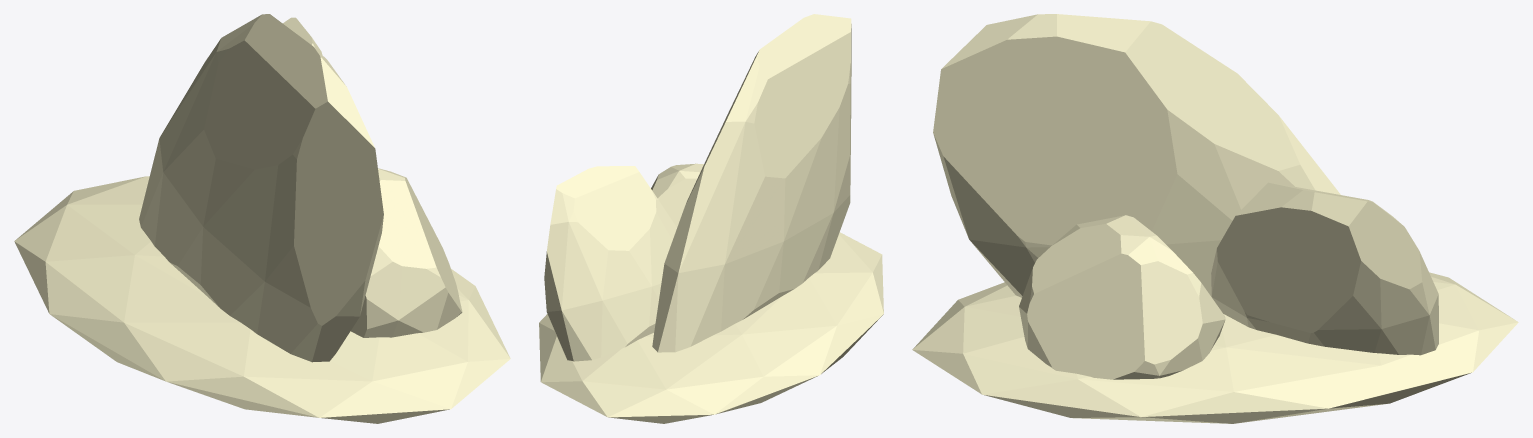
File: rockwall3.fbx
3 renders of one model, left to right at view 1: azimuth 30°, elevation 25°; view 2: azimuth 150°, elevation 25°; view 3: azimuth 270°, elevation 25°, orthographic. The views are drawn at different scales.
Visible parts, largest first — view 1: Icosphere.022, Icosphere.019, Icosphere.021; view 2: Icosphere.022, Icosphere.019, Icosphere.020, Icosphere.021; view 3: Icosphere.022, Icosphere.019, Icosphere.020, Icosphere.021.
Part boxes in pixels (x1,y1,x2,y2): Icosphere.022: [139, 14, 383, 362]; Icosphere.019: [14, 176, 510, 423]; Icosphere.021: [351, 168, 462, 337]; Icosphere.022: [652, 14, 851, 352]; Icosphere.019: [539, 232, 883, 423]; Icosphere.020: [544, 166, 676, 361]; Icosphere.021: [651, 163, 703, 227]; Icosphere.022: [933, 14, 1340, 297]; Icosphere.019: [912, 272, 1518, 423]; Icosphere.020: [1211, 182, 1438, 355]; Icosphere.021: [1019, 215, 1225, 379].
Size of the model in its own units: 1271 by 1256 by 2010.
